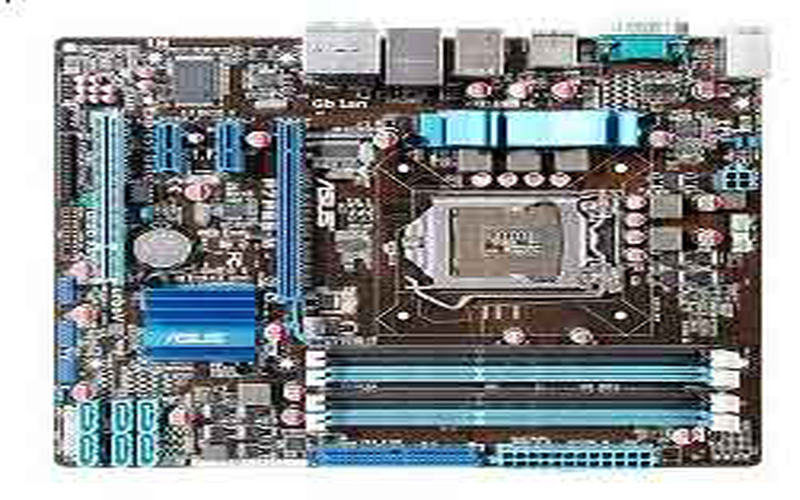Cirtuit-Board: (42, 21, 775, 493)
